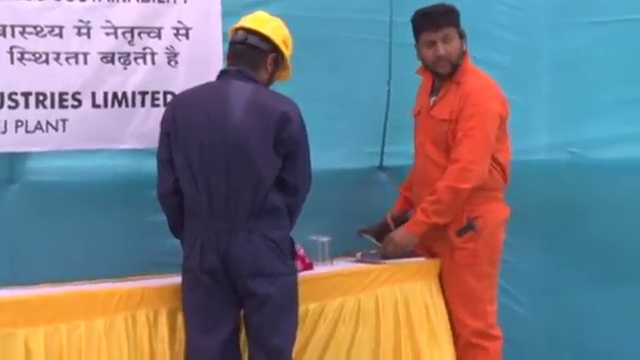helmet: (230, 10, 296, 75)
helmet_off: (409, 4, 470, 82)
helmet_on: (225, 10, 294, 91)
person: (155, 10, 313, 359), (379, 2, 513, 360)
